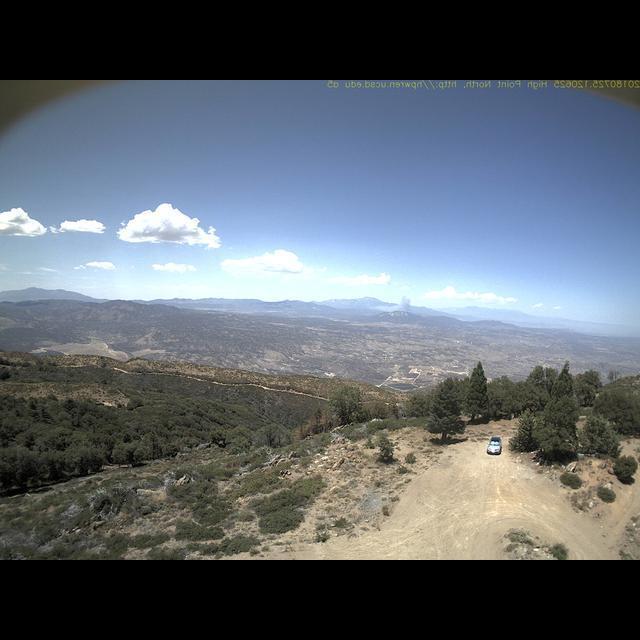Smoke: (369, 289, 419, 321)
